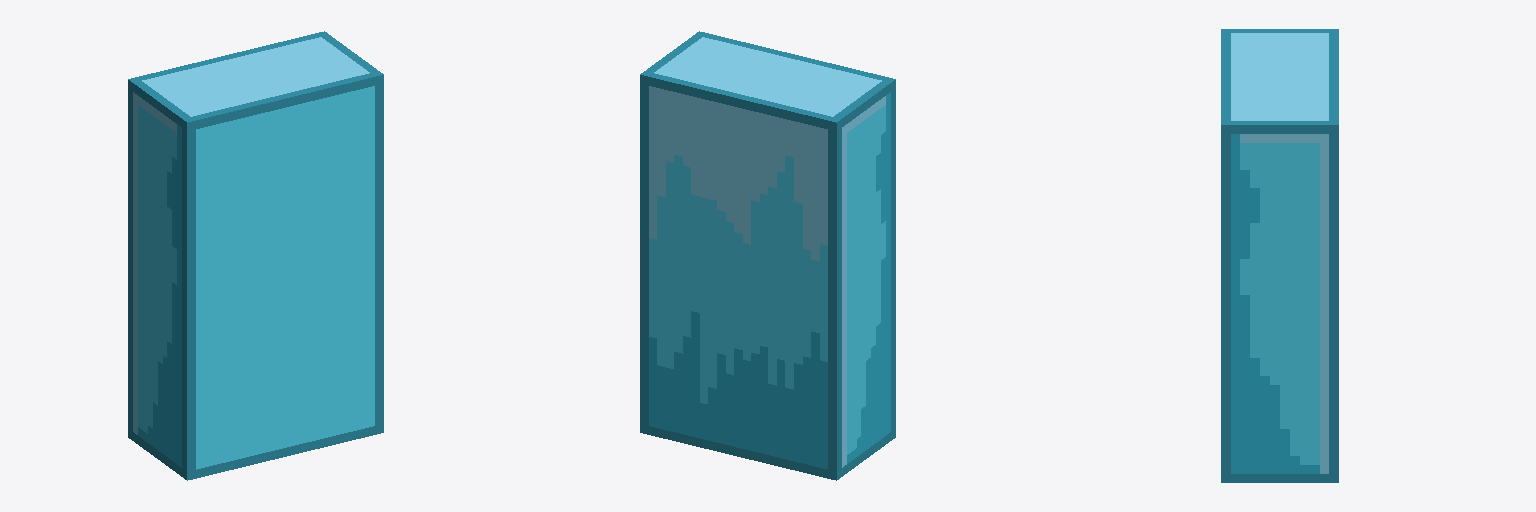
3 views of the same model, side by side, from view 1: azimuth 30°, elevation 25°; view 2: azimuth 150°, elevation 25°; view 3: azimuth 270°, elevation 25° (orthographic).
Parts seen in each view (by area): view 1: object 1; view 2: object 1; view 3: object 1.
Boxes of the visible parts, <box> form: object 1: <box>128,31,383,480</box>; object 1: <box>640,31,895,480</box>; object 1: <box>1221,29,1338,482</box>.
Size of the model in its own units: 2.3 by 4 by 1.2.
1 materials, 1 textured.